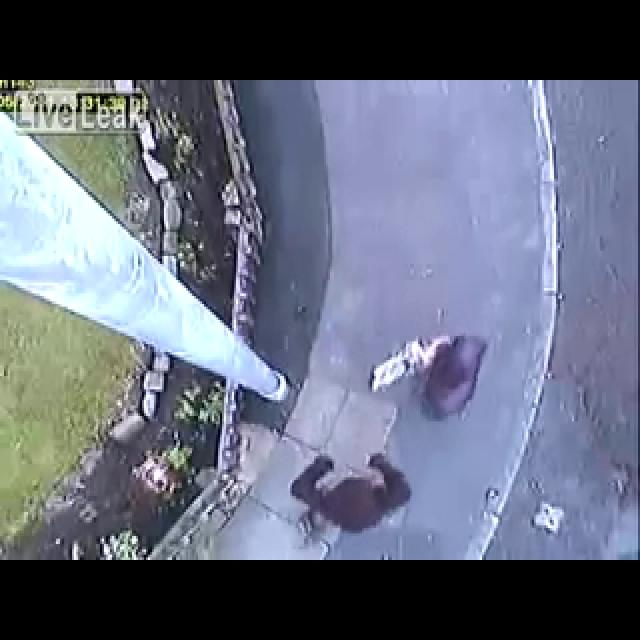vandalism: (339, 290, 548, 440)
